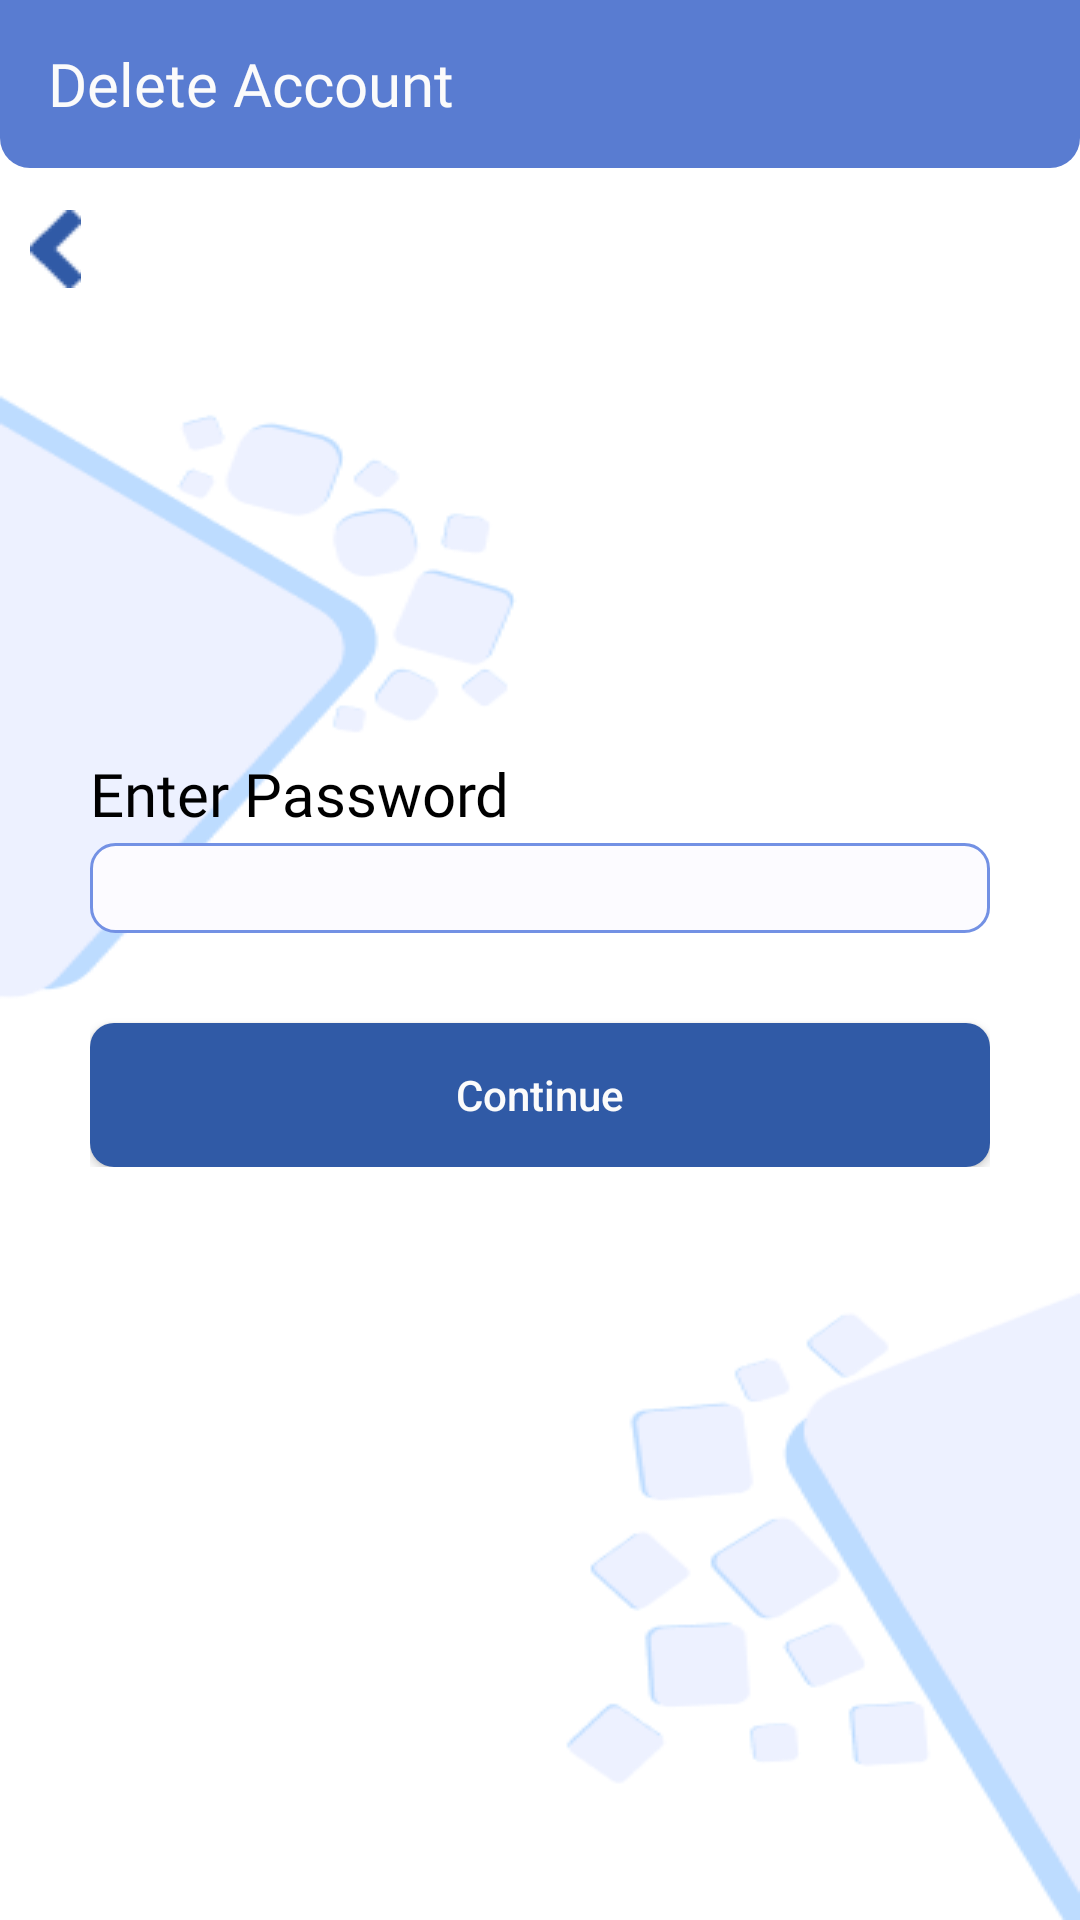

Screen size 1080x1920. Icon name, then its center in pixels as [x,y]:
back symbol: [55,249]
